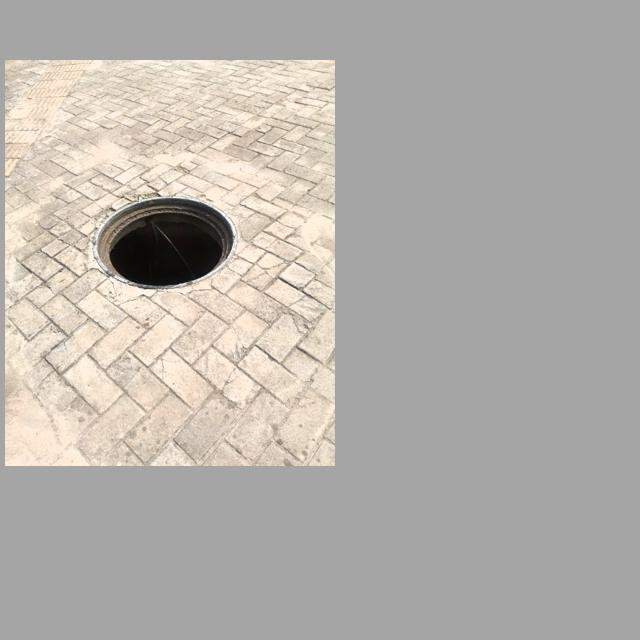lose: (92, 196, 238, 290)
